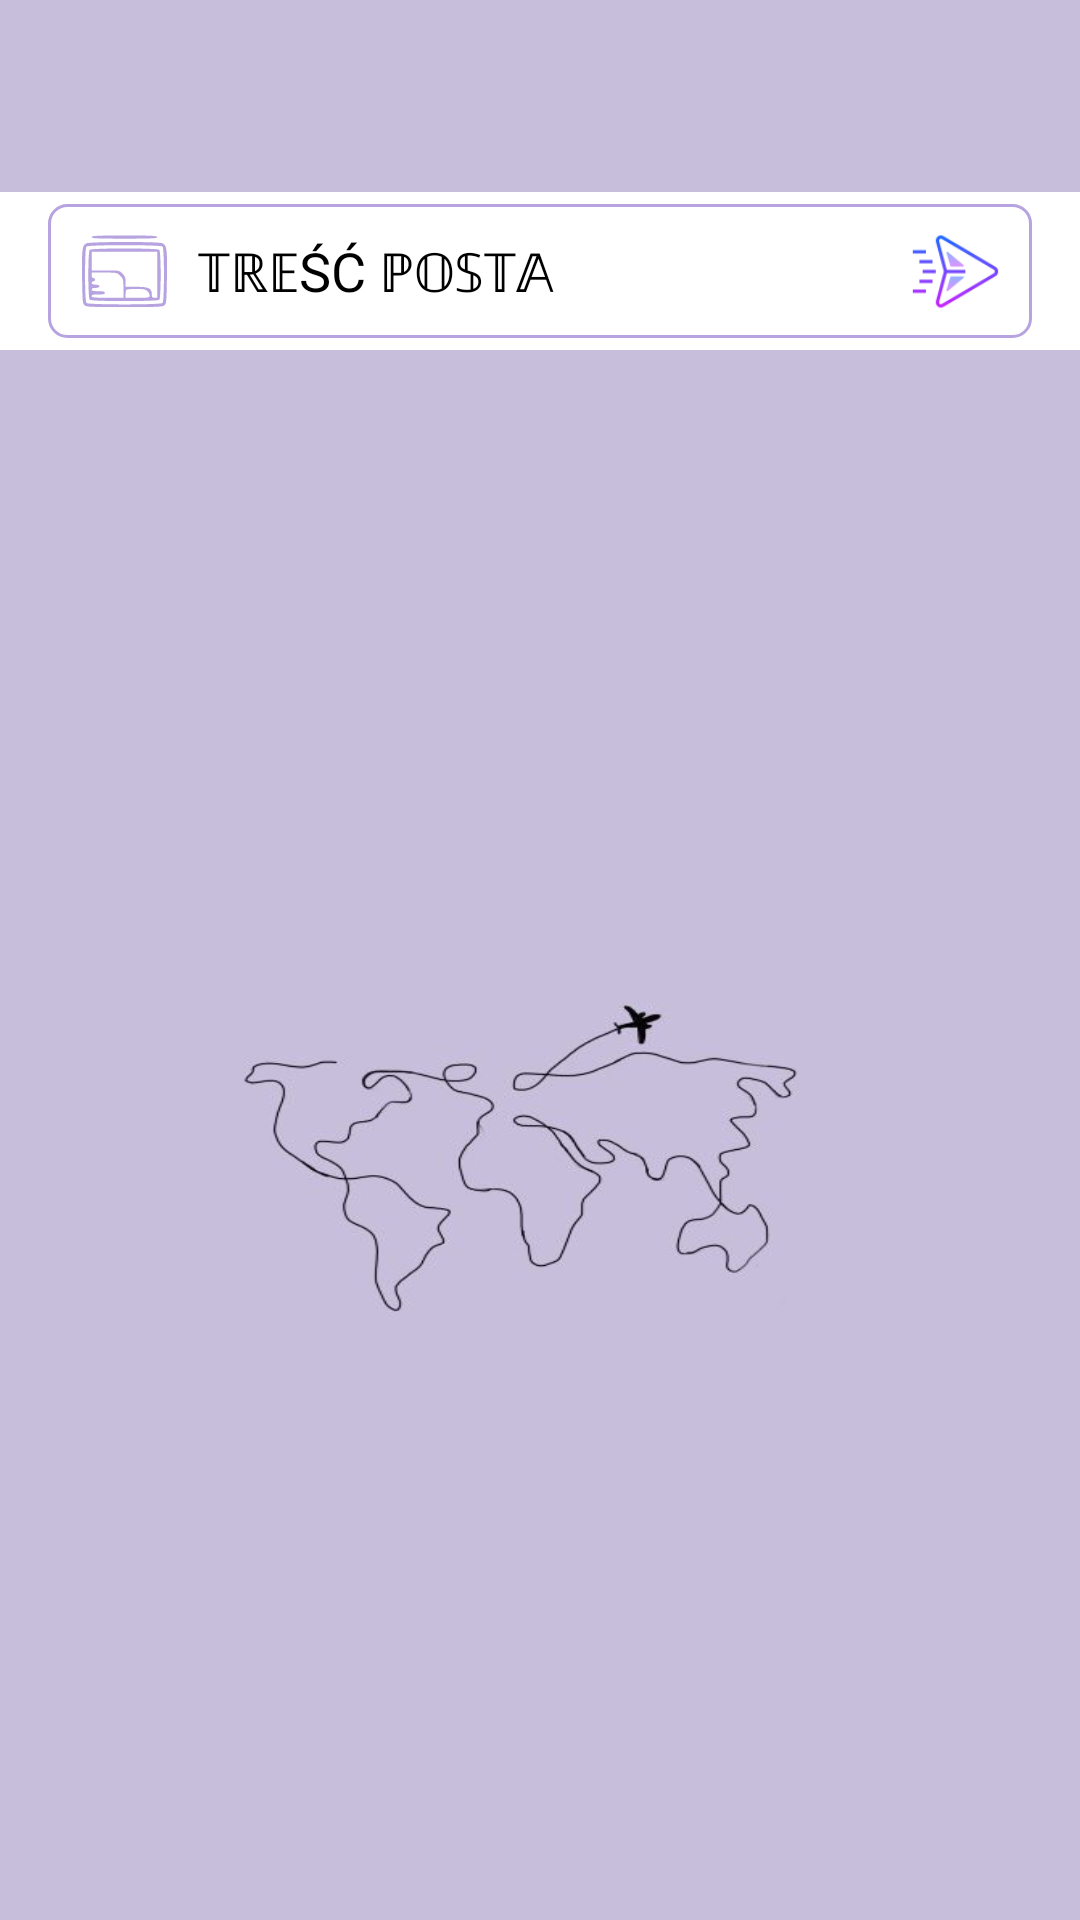

Where icons sit on this 1080w x 1920h app screen, as (x1, y1, x2, y2):
send: (912, 235, 999, 308)
